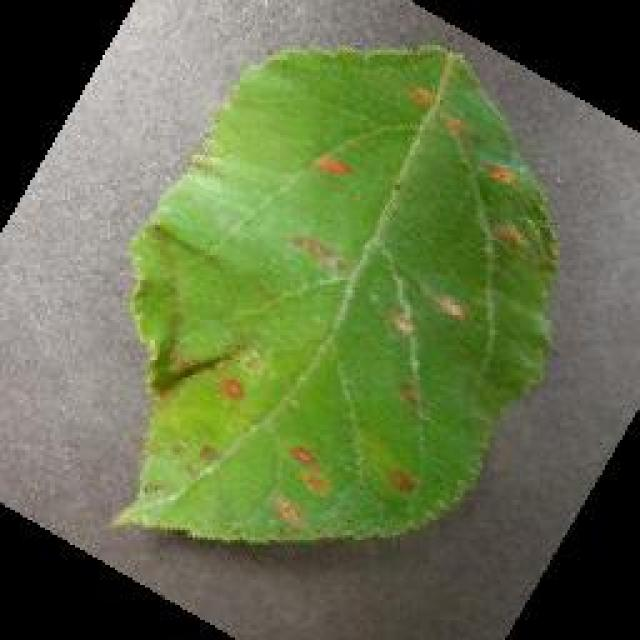apple rust disease: (108, 40, 560, 545)
